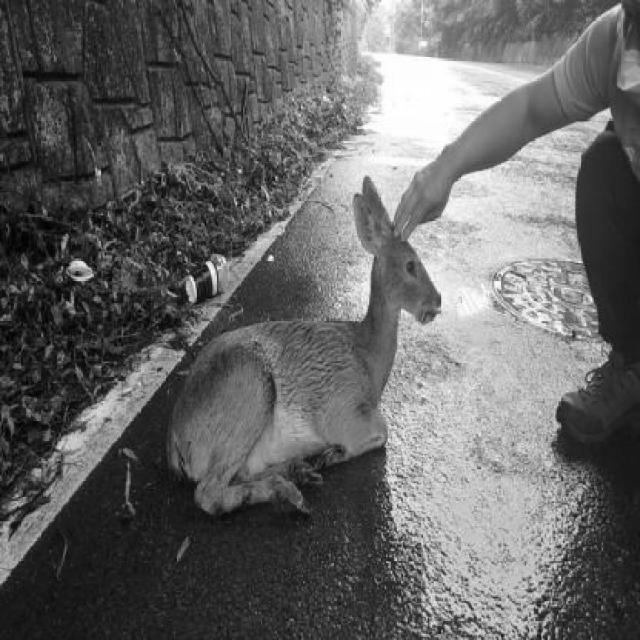Deer: (229, 239, 443, 515)
